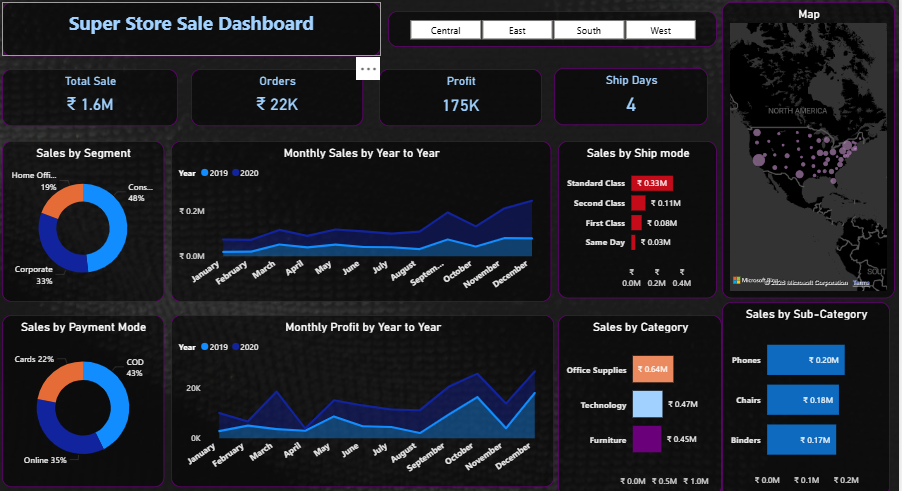

The page's visual inventory and layout, read from the dashboard file:
{"tool":"powerbi","page":{"name":"Page 1","canvas":[1280,720],"ordinal":0},"visuals":[{"type":"clusteredBarChart","title":"Sales by Category","fields":{"Category":["Sheet1.Category"],"Y":["Sum(Sheet1.Sales)"]},"box":[798,455,232.4,256.5],"z":0},{"type":"clusteredBarChart","title":"Sales by  Sub-Category","fields":{"Category":["Sheet1.Sub-Category"],"Y":["Sum(Sheet1.Sales)"]},"box":[1030.4,436.5,238.1,276.4],"z":1000},{"type":"clusteredBarChart","title":" Sales by Ship mode","fields":{"Category":["Sheet1.Ship Mode"],"Y":["Sum(Sheet1.Sales)"]},"box":[798,208.3,225.4,222.5],"z":2000},{"type":"stackedAreaChart","title":"Monthly Sales by Year to Year","fields":{"Y":["Sum(Sheet1.Sales)"],"Category":["Sheet1.Order Date.Variation.Date Hierarchy.Month"],"Series":["Sheet1.Order Date.Variation.Date Hierarchy.Year"]},"box":[249.4,208.3,538.6,228.2],"z":3000},{"type":"stackedAreaChart","title":"Monthly Profit by Year to Year","fields":{"Category":["Sheet1.Order Date.Variation.Date Hierarchy.Month"],"Series":["Sheet1.Order Date.Variation.Date Hierarchy.Year"],"Y":["Sum(Sheet1.Profit)"]},"box":[249.4,455,542.8,243.8],"z":4000},{"type":"map","title":"Map","fields":{"Category":["Sheet1.State"],"Size":["Sum(Sheet1.Sales)"]},"box":[1030.4,11.3,245.2,419.5],"z":5000},{"type":"donutChart","title":" Sales by Segment","fields":{"Category":["Sheet1.Segment"],"Y":["Sum(Sheet1.Sales)"]},"box":[9.9,208.3,229.6,228.2],"z":6000},{"type":"donutChart","title":" Sales by Payment Mode","fields":{"Y":["Sum(Sheet1.Sales)"],"Category":["Sheet1.Payment Mode"]},"box":[9.9,455,229.6,243.8],"z":7000},{"type":"slicer","fields":{"Values":["Sheet1.Region"]},"box":[557,24.1,466.3,51],"z":8000},{"type":"card","title":"Total Sale","fields":{"Values":["Sum(Sheet1.Sales)"]},"box":[9.9,106.3,249.4,80.8],"z":9000},{"type":"card","title":"Orders","fields":{"Values":["Sum(Sheet1.Quantity)"]},"box":[277.8,106.3,243.8,80.8],"z":10000},{"type":"card","title":"Profit","fields":{"Values":["Sum(Sheet1.Profit)"]},"box":[543.7,105.6,231.2,81.3],"z":11000},{"type":"card","title":"Ship Days","fields":{"Values":["Avg(Sheet1.Average Delivery)"]},"box":[792.3,104.9,218.3,80.8],"z":12000},{"type":"textbox","box":[10,11.4,536.5,77.1],"z":13000}]}

Visuals, with their boxes on the page's 1280x720 design canvas (x1, y1, x2, y2). These are canvas units, not pixel positions in the 902x491 screenshot, which may show the page scaled, cropped or inside an application window:
"Sales by Category" clusteredBarChart: box=[798, 455, 1030, 712]
"Sales by  Sub-Category" clusteredBarChart: box=[1030, 436, 1268, 713]
" Sales by Ship mode" clusteredBarChart: box=[798, 208, 1023, 431]
"Monthly Sales by Year to Year" stackedAreaChart: box=[249, 208, 788, 436]
"Monthly Profit by Year to Year" stackedAreaChart: box=[249, 455, 792, 699]
"Map" map: box=[1030, 11, 1276, 431]
" Sales by Segment" donutChart: box=[10, 208, 240, 436]
" Sales by Payment Mode" donutChart: box=[10, 455, 240, 699]
slicer - Sheet1.Region: box=[557, 24, 1023, 75]
"Total Sale" card: box=[10, 106, 259, 187]
"Orders" card: box=[278, 106, 522, 187]
"Profit" card: box=[544, 106, 775, 187]
"Ship Days" card: box=[792, 105, 1011, 186]
textbox: box=[10, 11, 546, 88]
